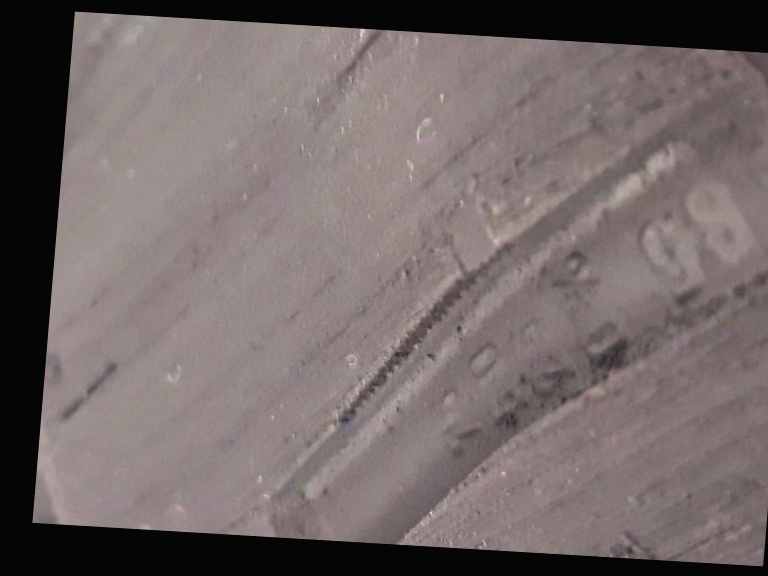temoin:0: (428, 197, 523, 306)
